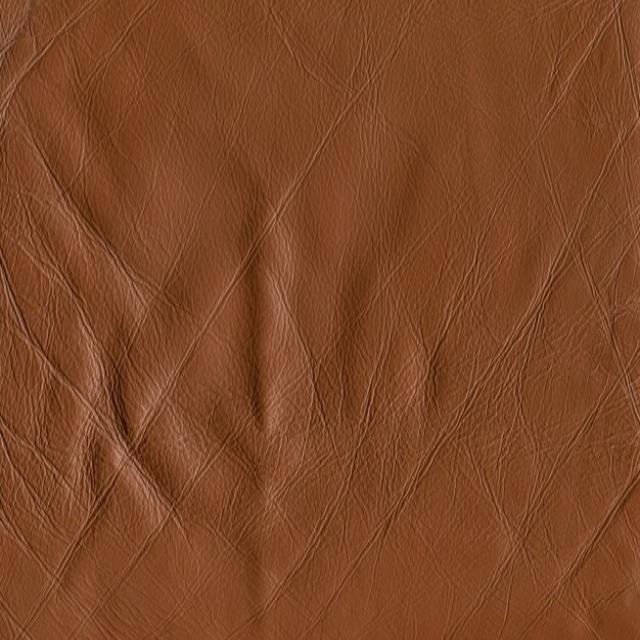Crease: (59, 246, 225, 539), (268, 223, 452, 445)
